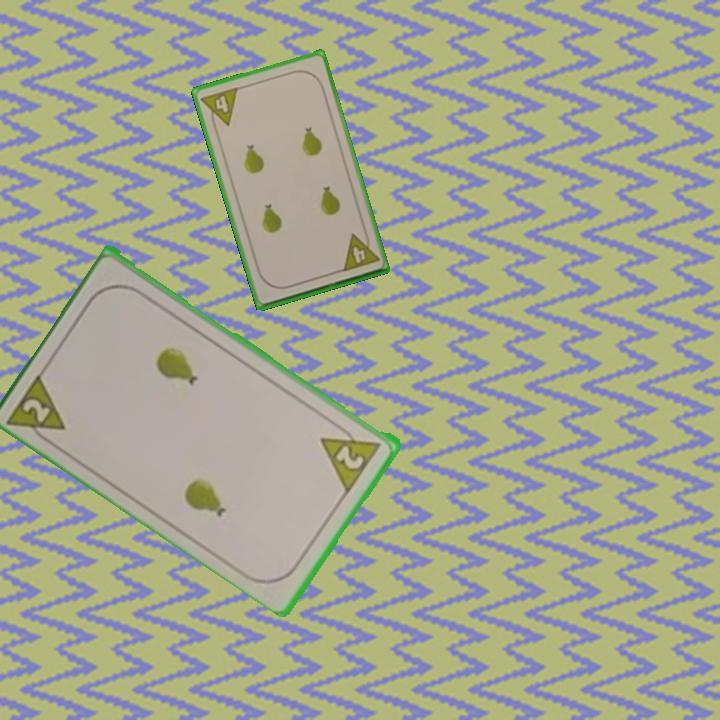2p: (4, 367, 70, 450), (317, 419, 385, 494)
4p: (197, 83, 241, 132), (338, 227, 382, 274)
